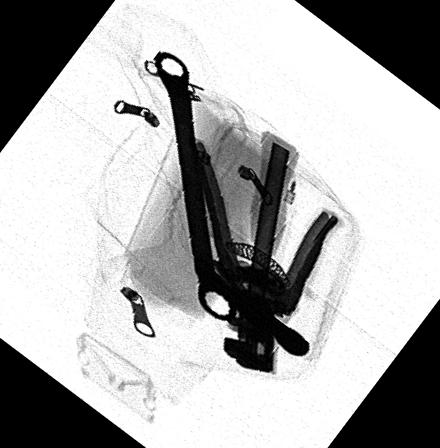Hammer: (201, 126, 310, 359)
Pliers: (178, 132, 338, 377)
Wrench: (151, 48, 239, 323)
